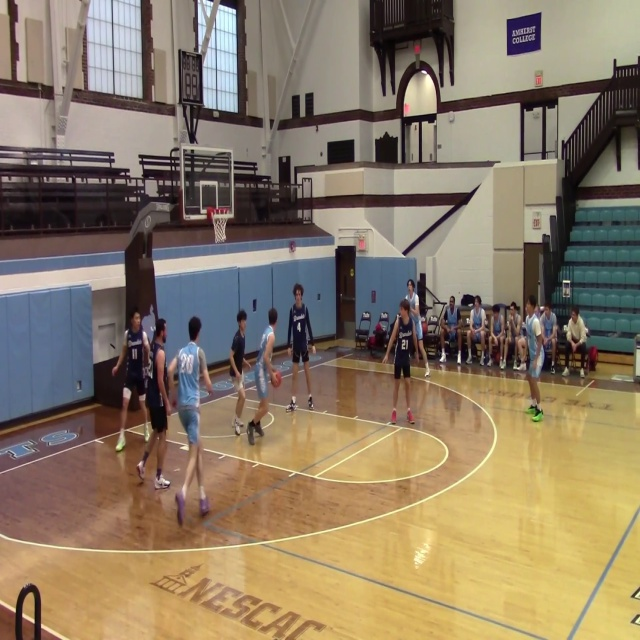Basketball: (271, 371, 282, 388)
